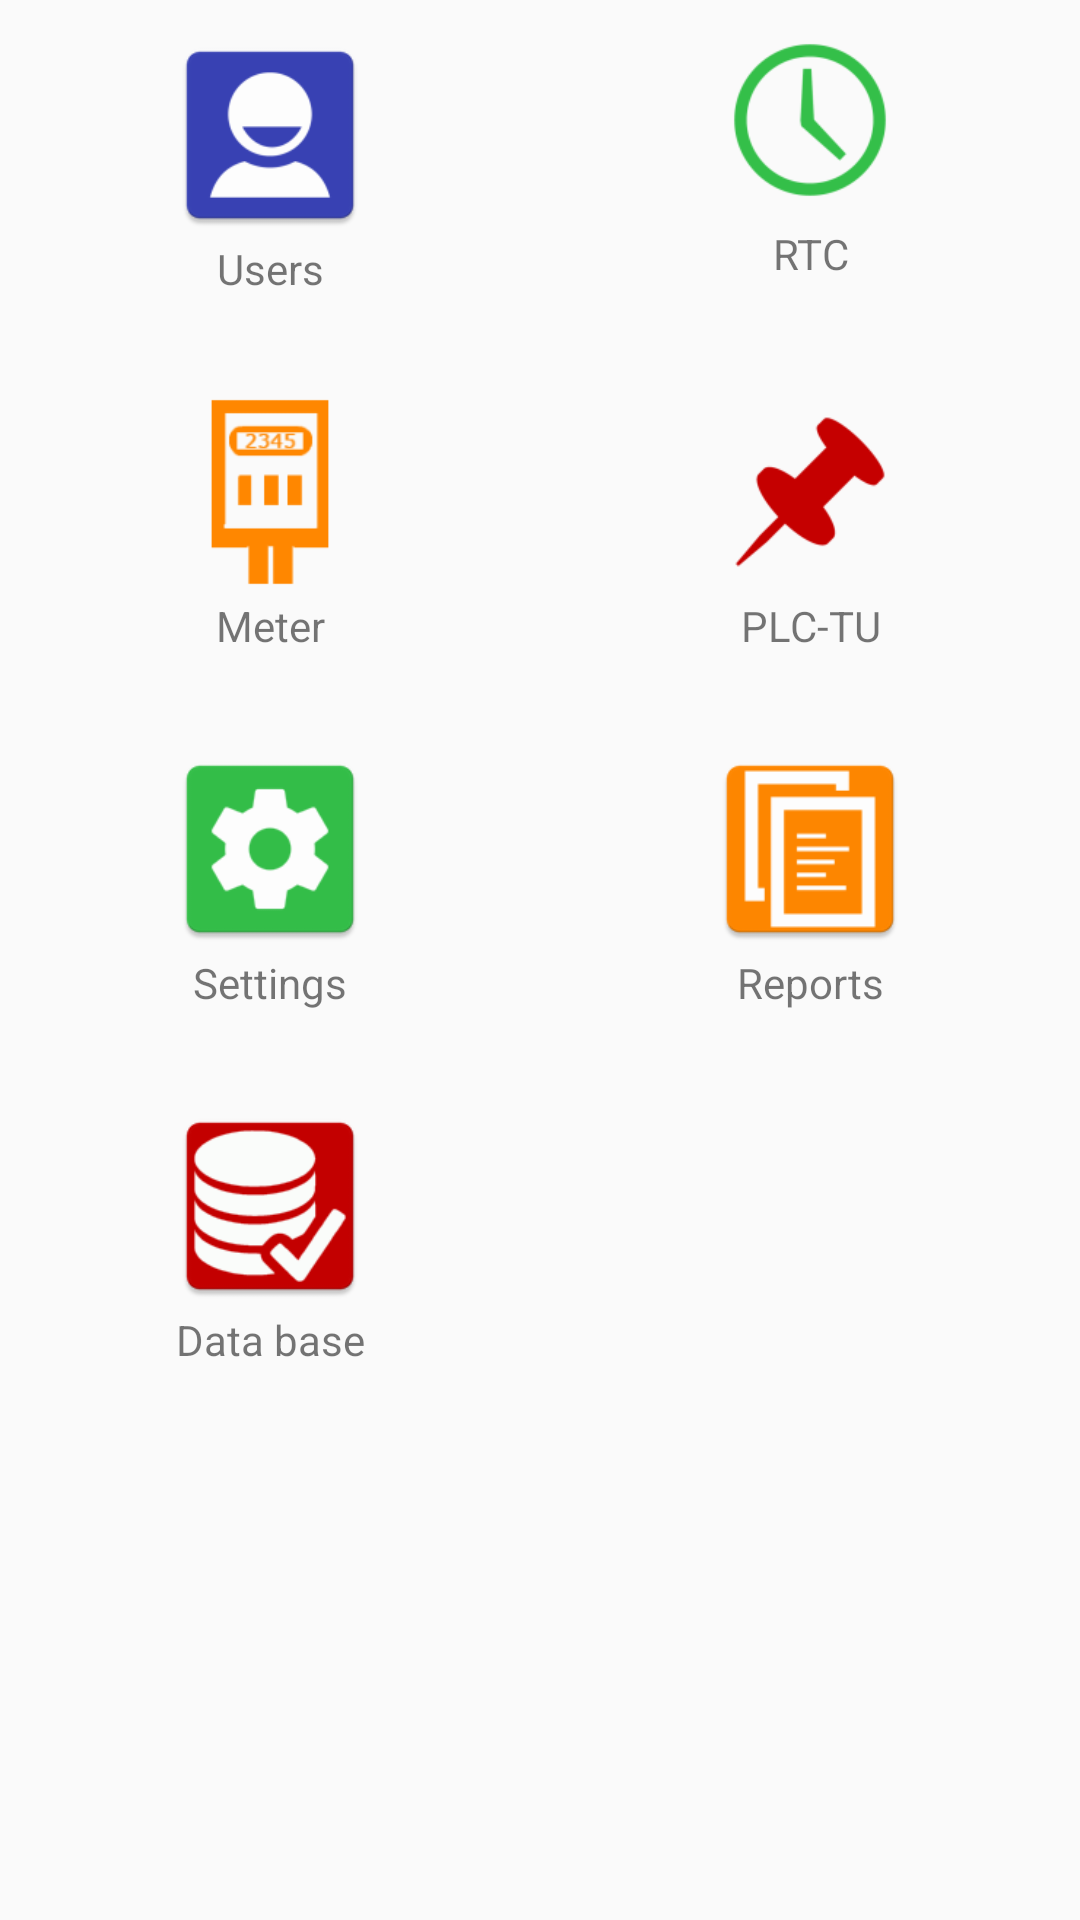

Icon bounding boxes for this 1080×1920 phone screenshot, format bbox=[x1, y1, x2, y2]:
clock: bbox=[734, 44, 886, 196]
